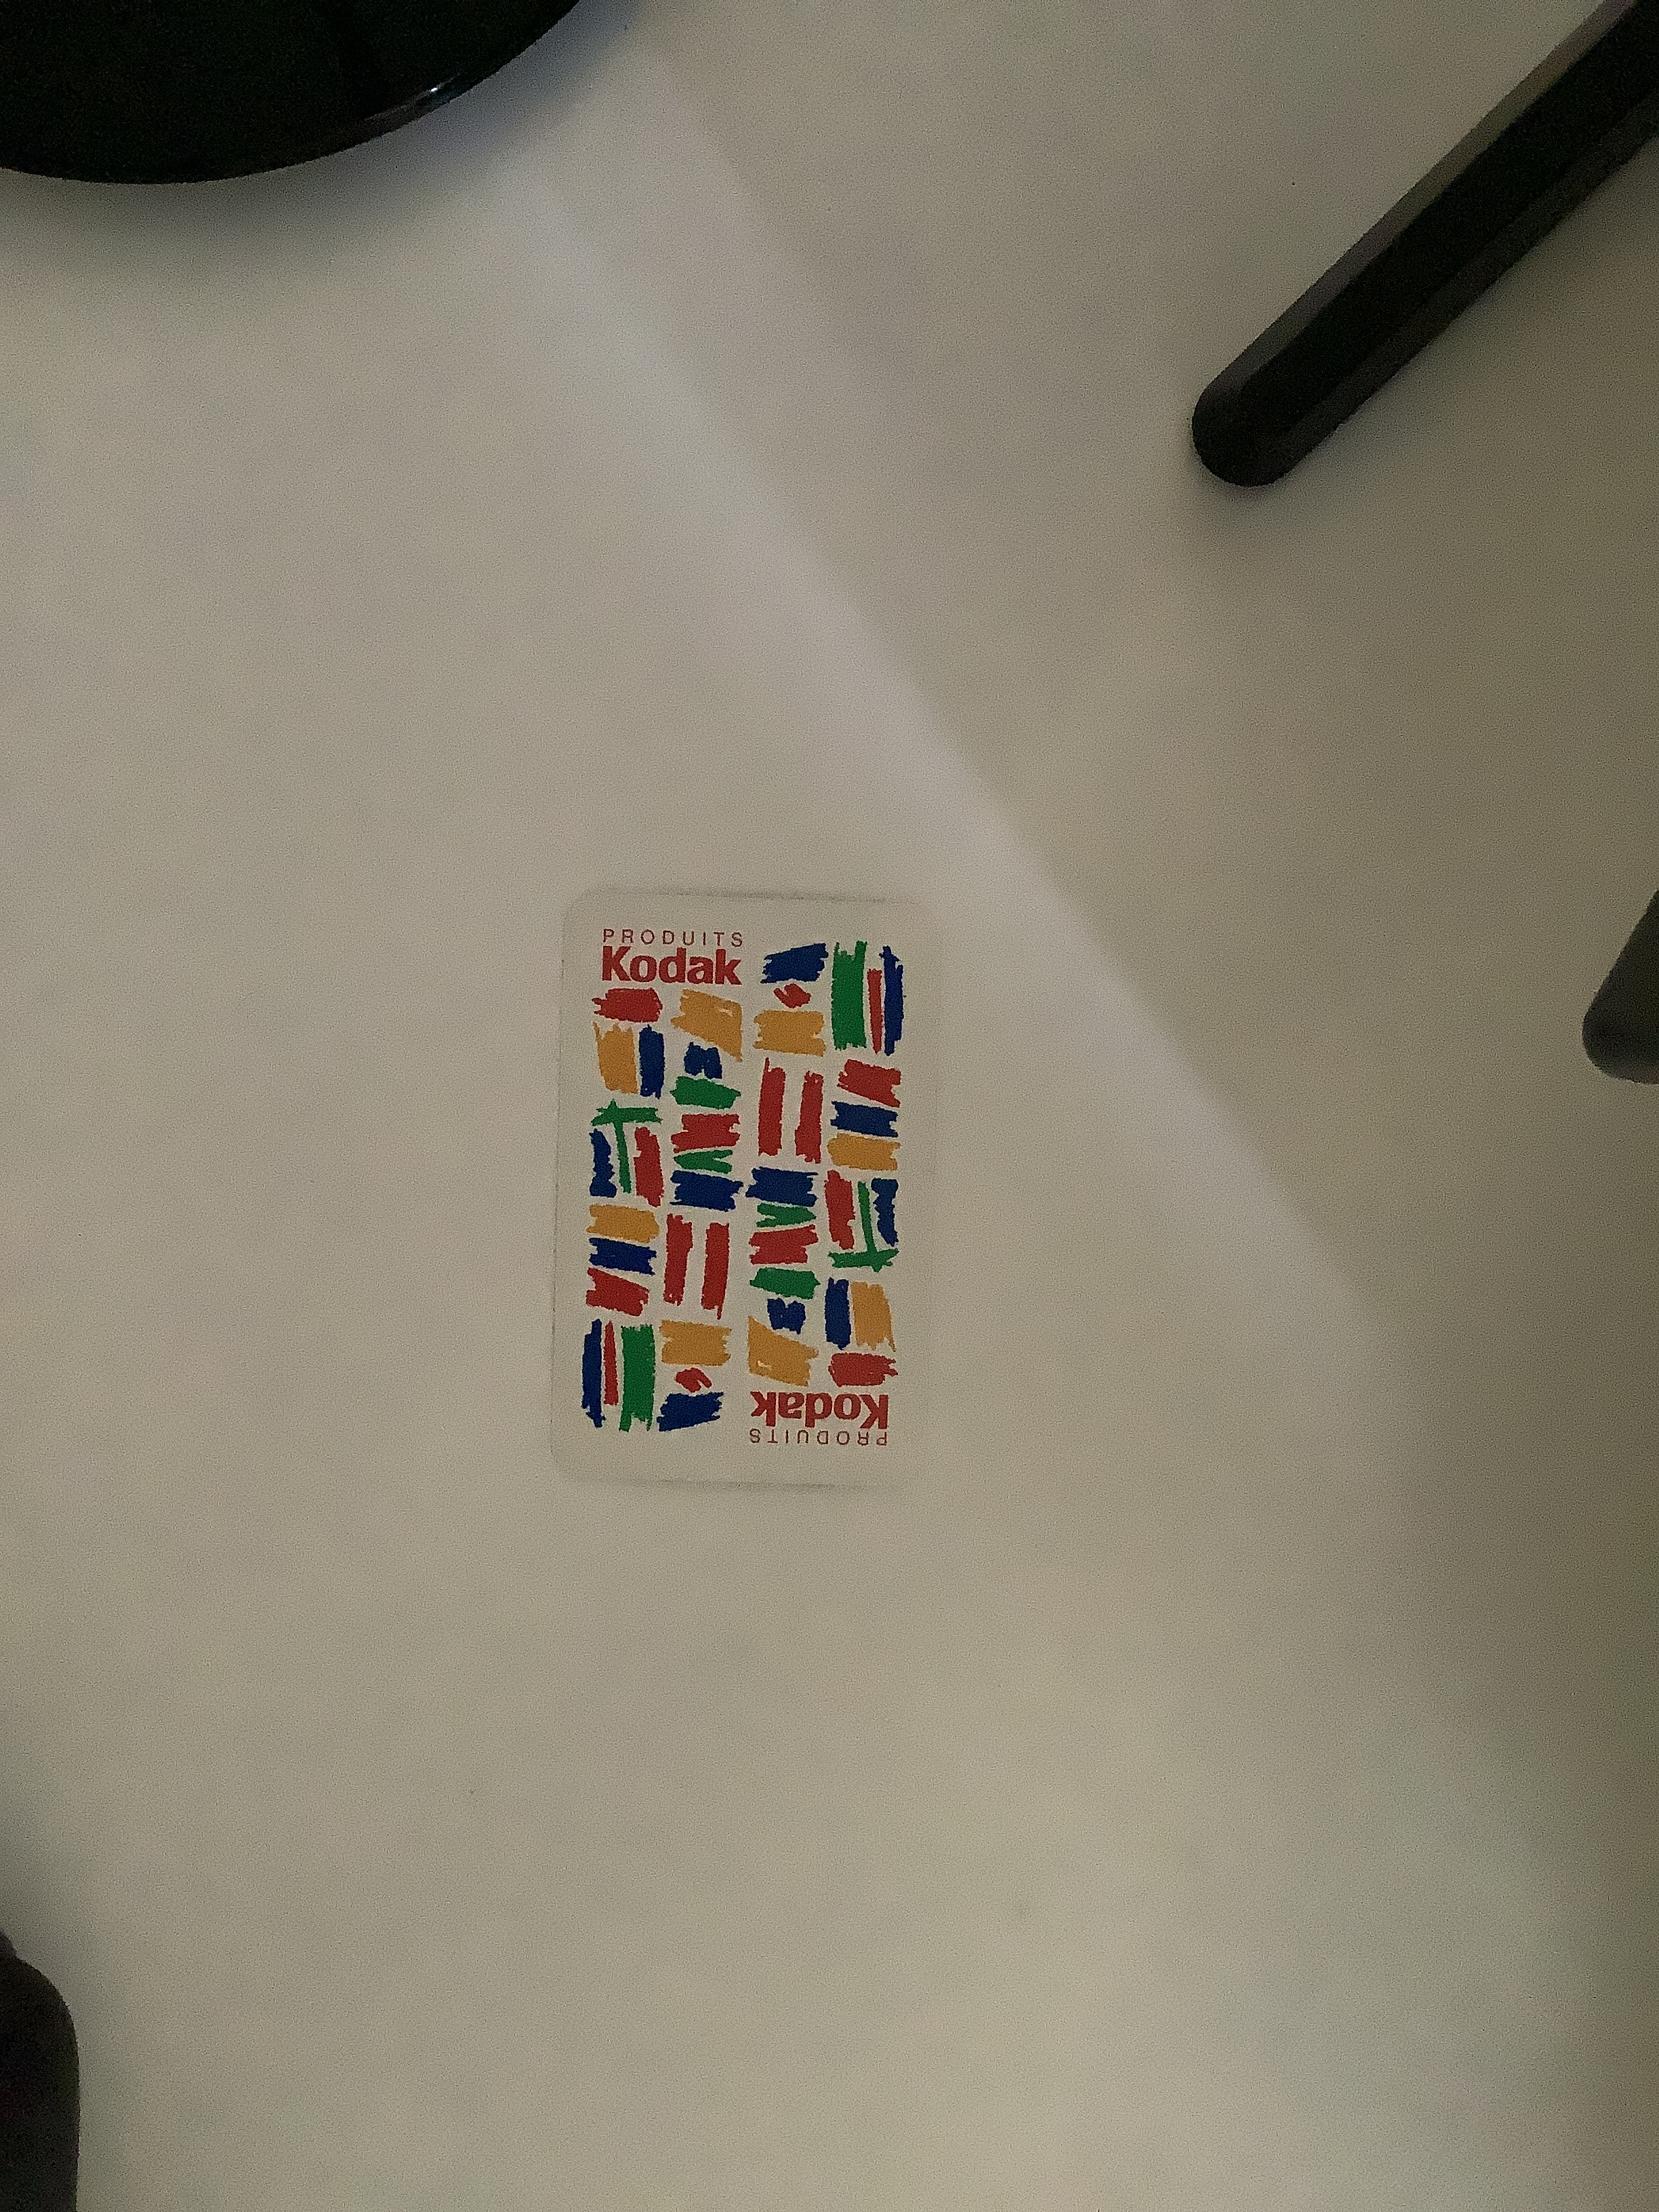🔝: (526, 867, 969, 1514)
